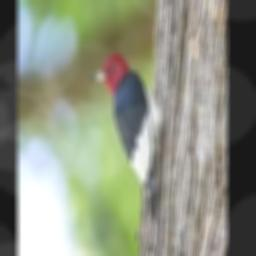Woodpecker: (89, 53, 171, 222)
